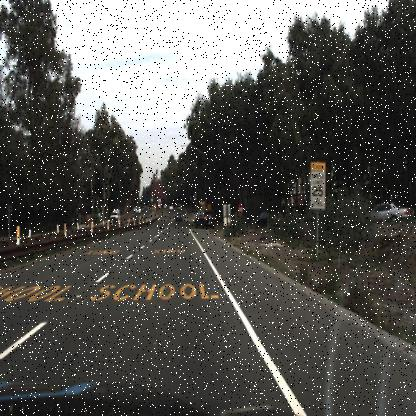car: (357, 201, 411, 225), (244, 205, 284, 236), (192, 207, 217, 233), (107, 203, 120, 224), (174, 209, 186, 223), (172, 208, 182, 224)
trafficLight-Green: (191, 192, 197, 210), (148, 194, 153, 210), (148, 191, 154, 203), (178, 179, 184, 190)
